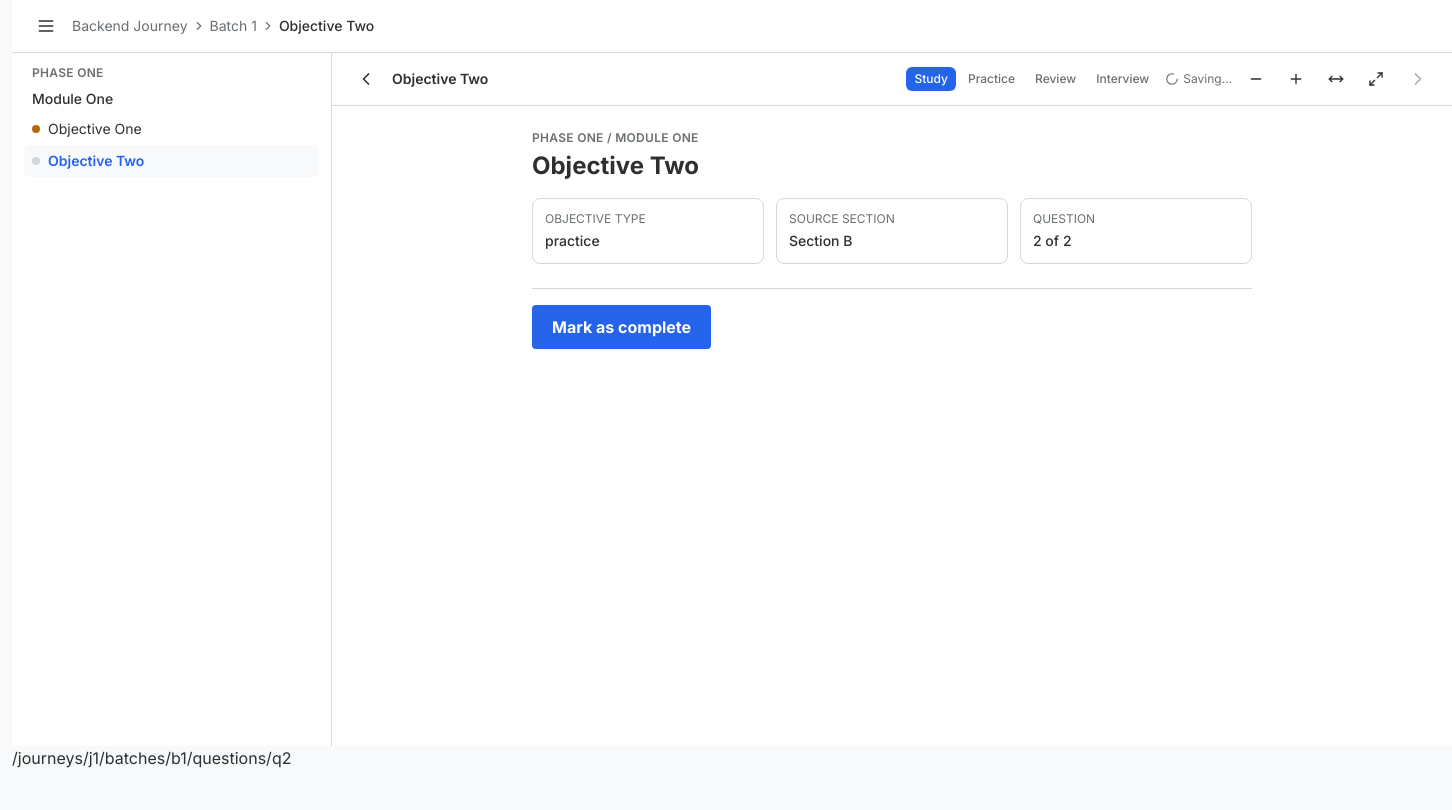
Test case: StudyReaderPage › navigates between questions with the toolbar
Expected: the 2nd heading "Objective Two" is shown, [532,151,699,180]
Expected: the button named "Next question" is disabled, [1400,61,1436,97]
Click the button named "Previous question": (366, 79) [348,61,384,97]
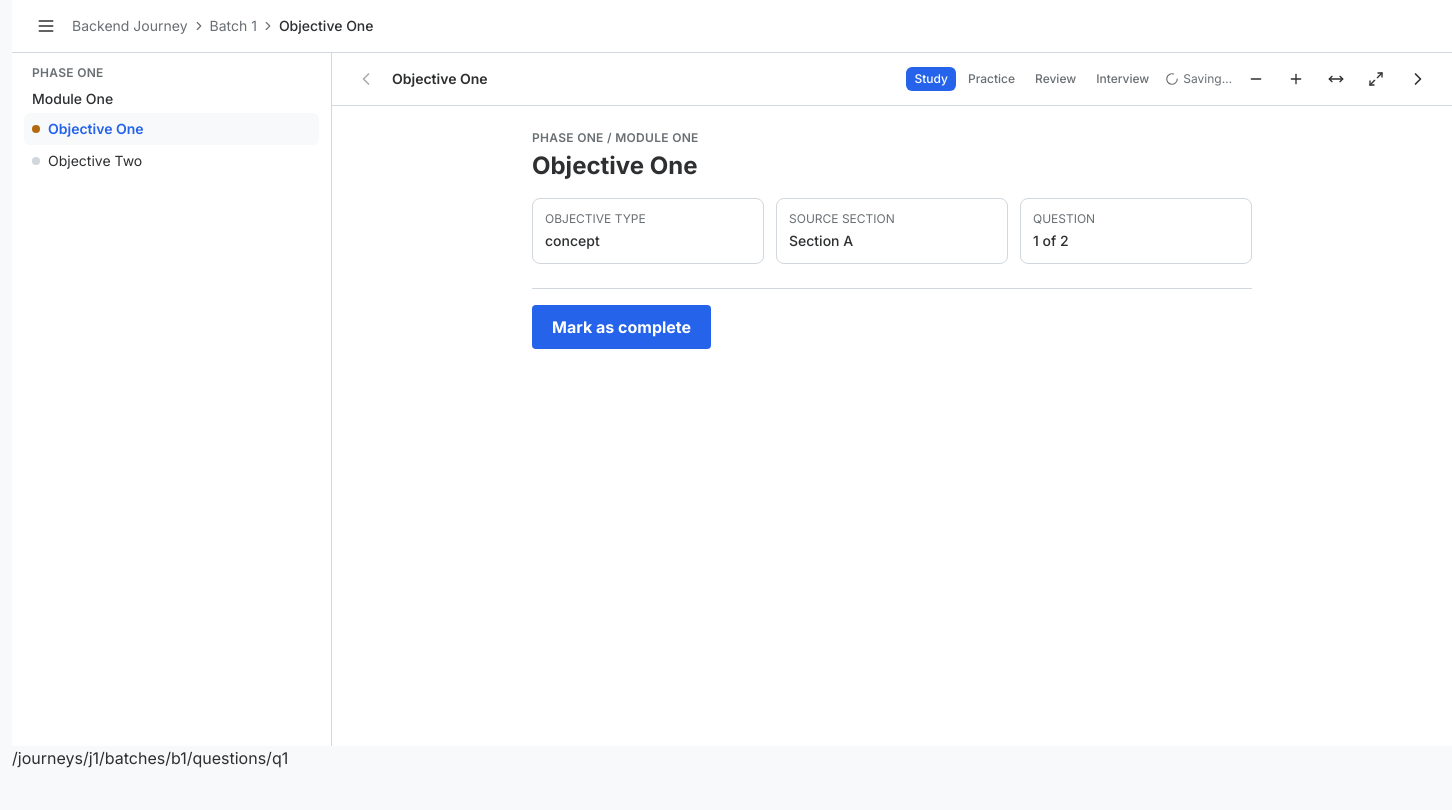
Expected: the button named "Next question" is enabled, [1400,61,1436,97]
Expected: the text with test id "location" reads "/journeys/j1/batches/b1/questions/q1", [12,748,288,768]
